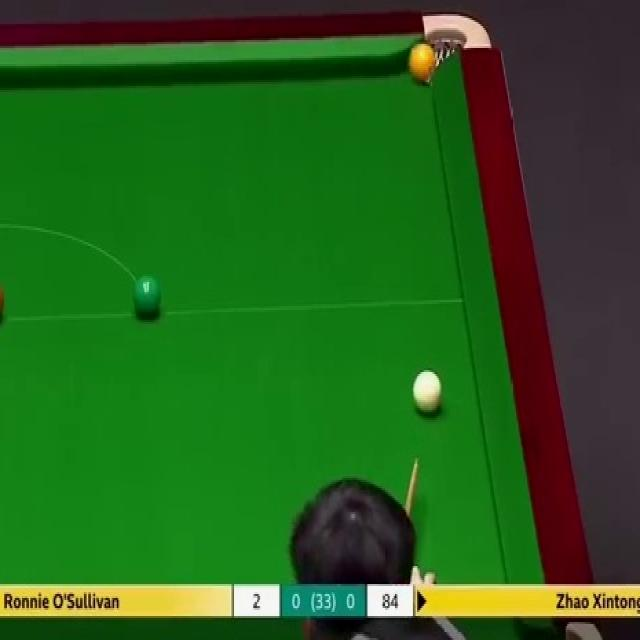green-ball: (132, 274, 162, 320)
white-ball: (412, 368, 444, 414)
yellow-ball: (409, 45, 434, 83)
